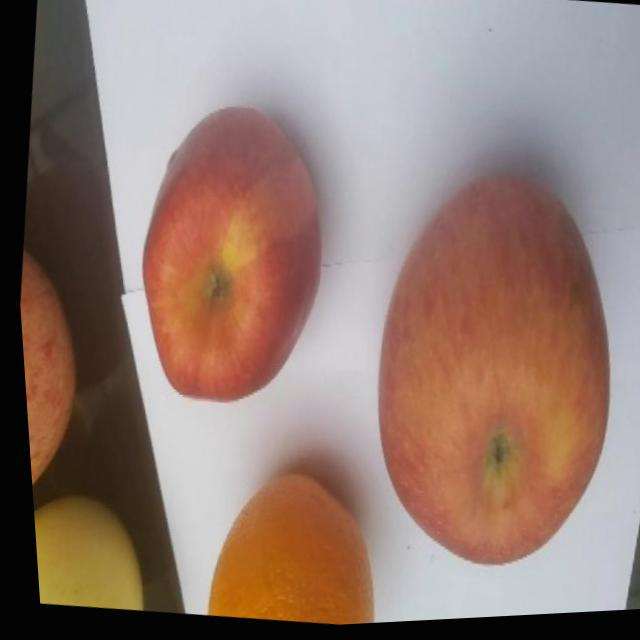Apple: (340, 158, 640, 588), (113, 91, 344, 418), (13, 245, 94, 511)
Orange: (191, 461, 384, 633)
